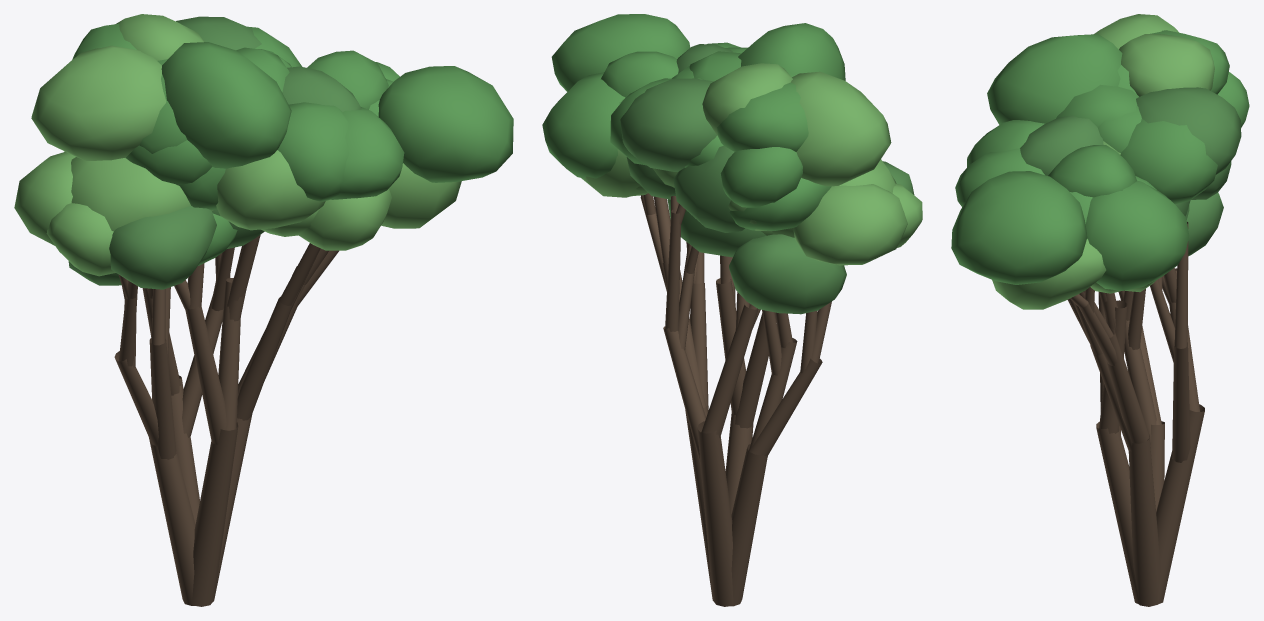
Rendered from bush_tall.glb.
The picture shows the model from 3 angles, left to right: view 1: azimuth 30°, elevation 25°; view 2: azimuth 150°, elevation 25°; view 3: azimuth 270°, elevation 25°; orthographic projection. The views are drawn at different scales.
Parts seen in each view (by area): view 1: bush_tall_Canopy0, bush_tall_Canopy1, bush_tall_Branches, bush_tall_Canopy2; view 2: bush_tall_Canopy0, bush_tall_Branches, bush_tall_Canopy1, bush_tall_Canopy2; view 3: bush_tall_Canopy0, bush_tall_Branches, bush_tall_Canopy2, bush_tall_Canopy1.
Boxes of the visible parts, x1,y1,x2,y2 form: bush_tall_Canopy0: (64,24,513,265); bush_tall_Canopy1: (14,14,461,276); bush_tall_Branches: (114,235,338,606); bush_tall_Canopy2: (68,16,361,289); bush_tall_Canopy0: (542,14,845,230); bush_tall_Branches: (640,193,831,606); bush_tall_Canopy1: (581,63,922,265); bush_tall_Canopy2: (620,44,914,314); bush_tall_Canopy0: (951,30,1249,290); bush_tall_Branches: (1067,222,1204,606); bush_tall_Canopy2: (1020,87,1241,256); bush_tall_Canopy1: (992,14,1214,309).
Size of the model in its own units: 1.16 by 1.55 by 0.7582.
